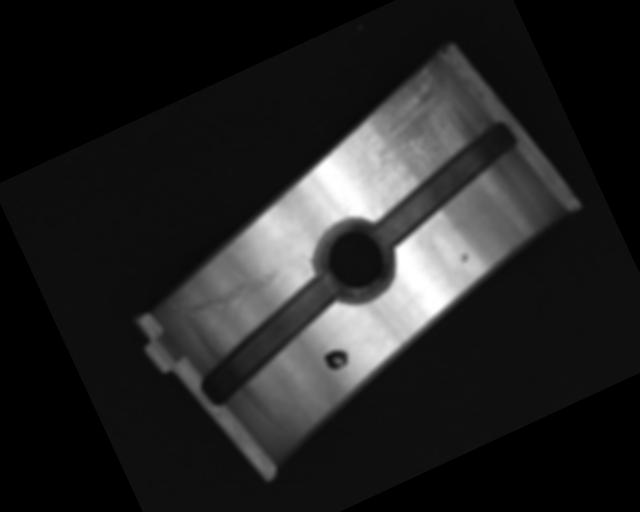blot: (320, 344, 353, 374)
bruise: (457, 252, 470, 264)
gap: (178, 270, 362, 412), (356, 117, 536, 249)
hole: (302, 207, 406, 311)
nick: (170, 258, 293, 346)
scratch: (343, 60, 481, 195)
